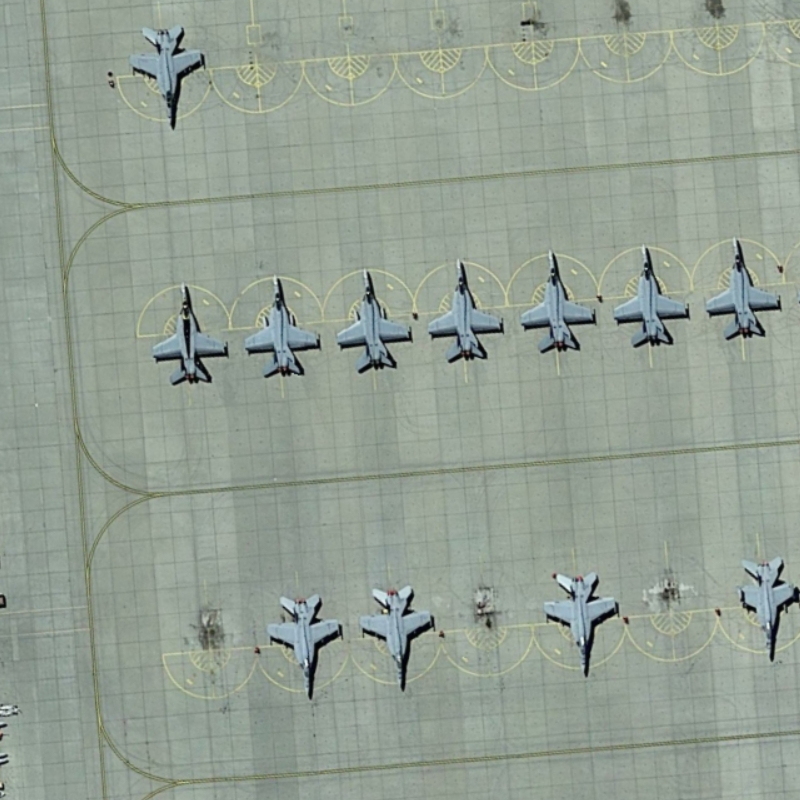A16: (422, 254, 509, 369), (540, 567, 624, 685), (515, 244, 601, 357), (262, 591, 346, 706), (357, 582, 440, 698), (242, 266, 324, 383), (607, 240, 694, 350), (334, 262, 416, 378), (148, 278, 231, 390), (703, 232, 786, 344), (128, 21, 207, 128), (734, 552, 800, 664)
